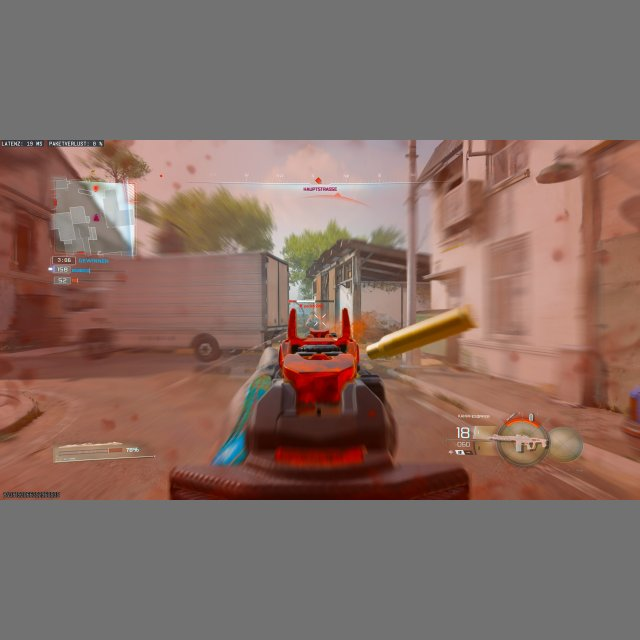player: (307, 312, 318, 330)
